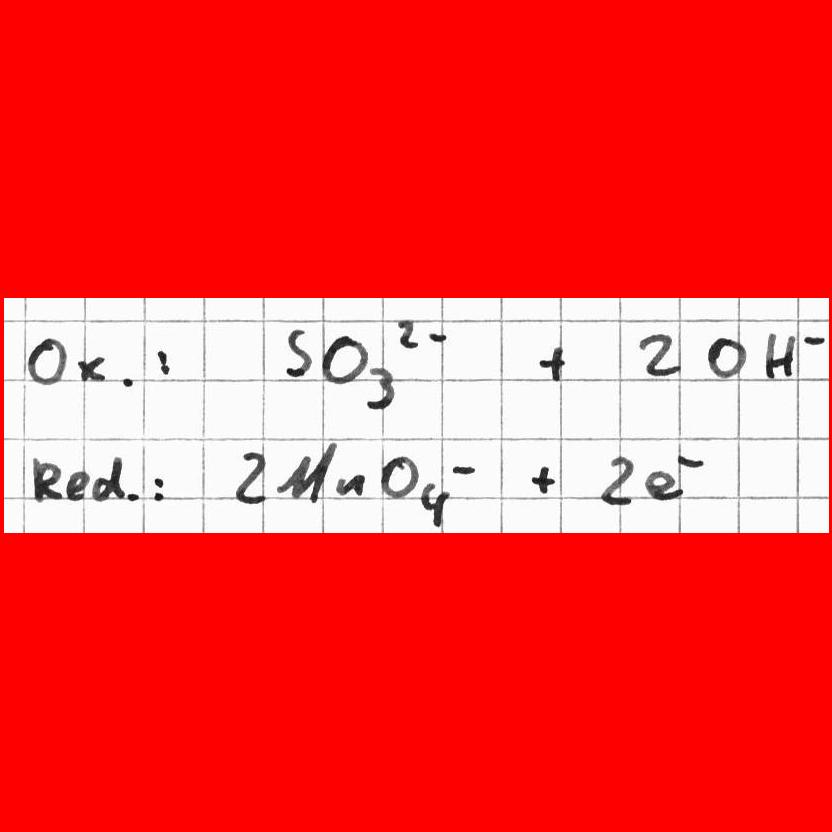Char: (279, 447, 331, 502), (636, 327, 684, 380), (324, 330, 369, 386), (596, 452, 637, 510), (24, 333, 67, 388), (231, 448, 269, 506), (703, 332, 749, 379), (379, 451, 418, 500), (281, 323, 312, 383), (761, 329, 797, 380), (29, 455, 62, 507), (89, 455, 126, 501), (418, 479, 452, 529), (366, 364, 399, 412), (536, 339, 568, 384), (644, 466, 682, 503), (527, 460, 554, 495), (394, 315, 420, 351), (76, 354, 106, 384), (334, 470, 363, 499), (152, 344, 174, 379), (65, 469, 88, 500), (676, 449, 705, 471), (450, 460, 478, 479), (801, 331, 827, 351), (150, 474, 168, 502), (425, 328, 449, 344), (116, 371, 136, 390), (127, 488, 145, 503)
